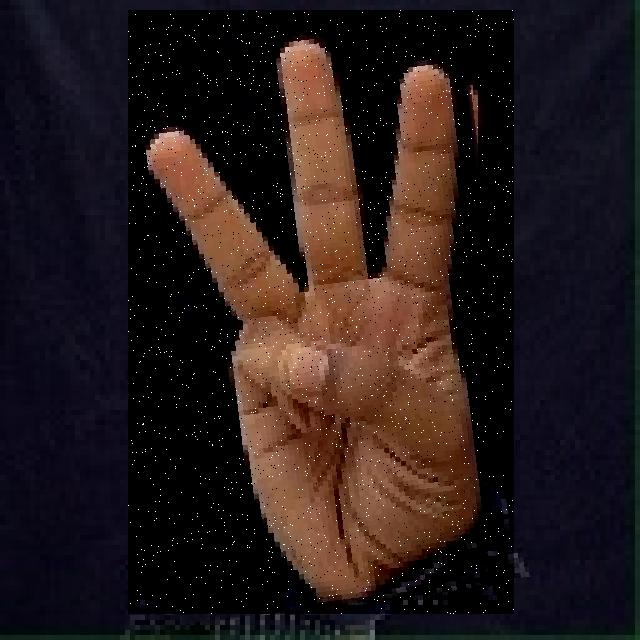Please: (128, 10, 514, 614)
